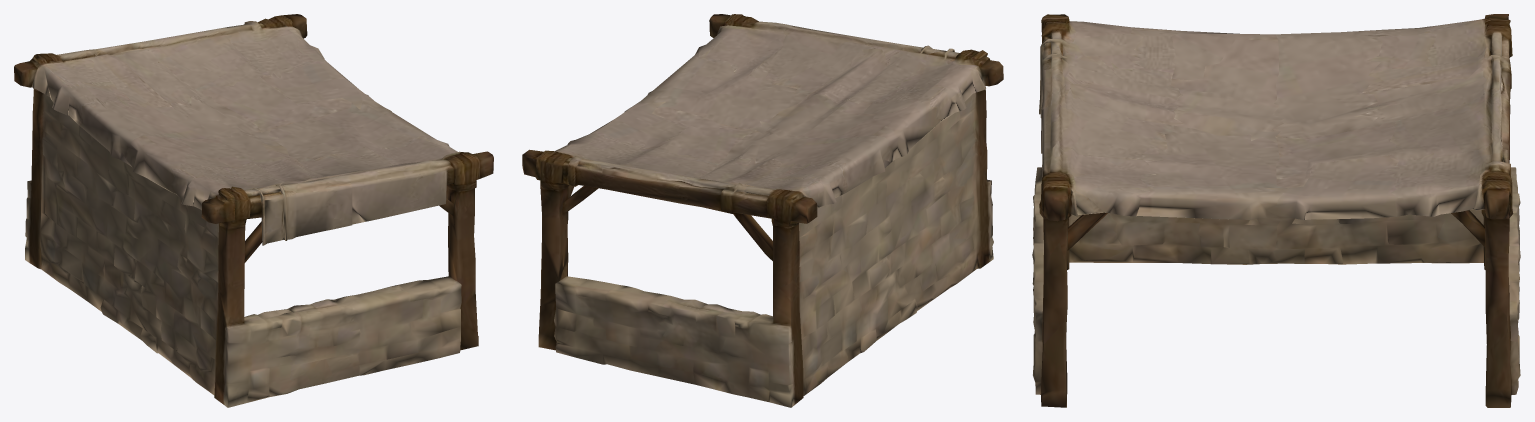
The model's file is market-stall-tripo-v2.glb.
The picture shows the model from 3 angles, left to right: view 1: azimuth 30°, elevation 25°; view 2: azimuth 150°, elevation 25°; view 3: azimuth 270°, elevation 25°; orthographic projection. The views are drawn at different scales.
Visible parts, largest first — view 1: tripo_node_8ed803f8-48db-4786-8990-fdb545fc0a84; view 2: tripo_node_8ed803f8-48db-4786-8990-fdb545fc0a84; view 3: tripo_node_8ed803f8-48db-4786-8990-fdb545fc0a84.
Boxes of the visible parts, left/top/right/bottom form: tripo_node_8ed803f8-48db-4786-8990-fdb545fc0a84: left=14, top=14, right=493, bottom=407; tripo_node_8ed803f8-48db-4786-8990-fdb545fc0a84: left=522, top=14, right=1003, bottom=407; tripo_node_8ed803f8-48db-4786-8990-fdb545fc0a84: left=1032, top=14, right=1520, bottom=407.
Size of the model in its own units: 0.8053 by 0.5634 by 1.
1 material, 1 textured.
